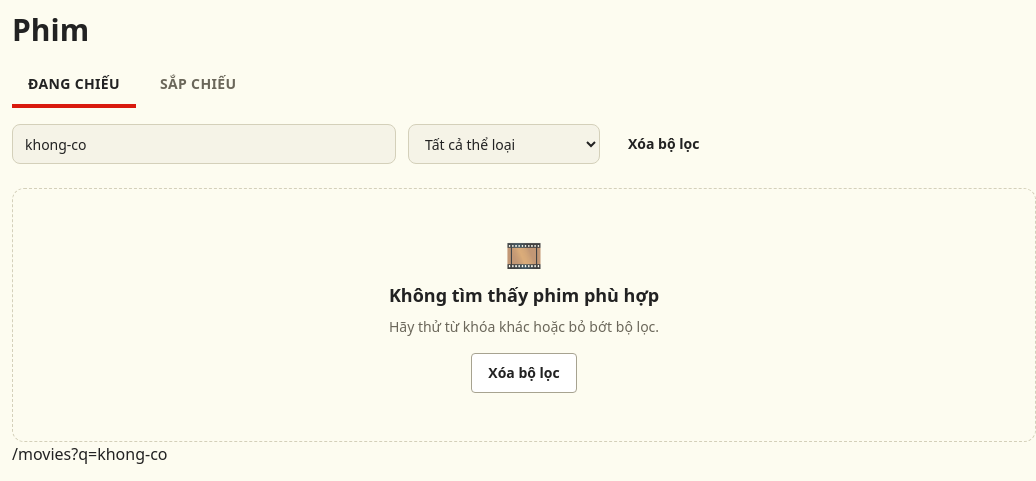
MoviesPage (P02) › không có kết quả khi đang lọc: báo rõ và có nút xóa bộ lọc đưa về trạng thái ban đầu
This screenshot has width=1036, height=481.
Expected: the text "Không tìm thấy phim phù hợp" is shown, [389,281,659,309]
Click the button "Xóa bộ lọc" below "Hãy thử từ khóa khác hoặc bỏ bớt bộ lọc.".
click(524, 373)  # box [471,353,577,393]
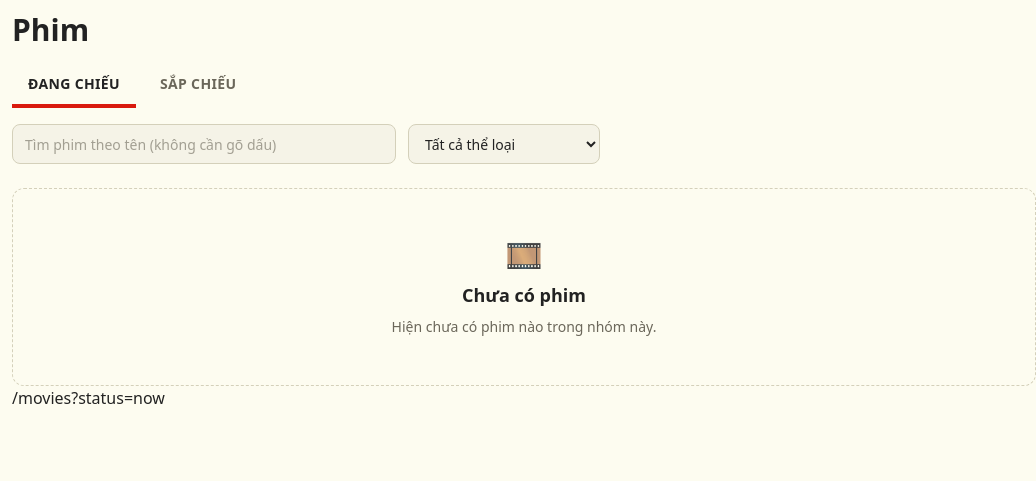
Now the text with test id "where" reads "/movies?status=now", box [12,387,165,409]
Now the search field labelled "Tìm phim theo tên" is empty, box [12,124,396,164]
